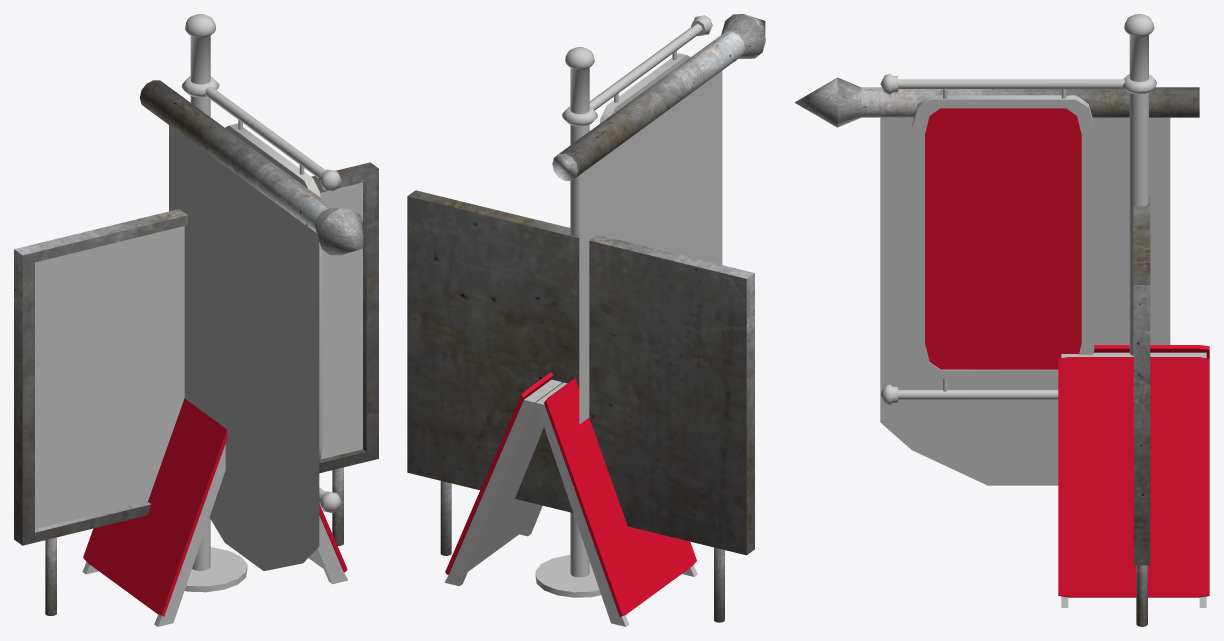
The model's file is AdSigns.fbx.
3 views of the same model, side by side, from view 1: azimuth 30°, elevation 25°; view 2: azimuth 150°, elevation 25°; view 3: azimuth 270°, elevation 25° (orthographic). The views are drawn at different scales.
Parts seen in each view (by area): view 1: Simple_AdSign, BannerPlane, FloorAd, StandingAd, BannerSupport; view 2: Simple_AdSign, FloorAd, BannerPlane, StandingAd, BannerSupport; view 3: StandingAd, BannerPlane, FloorAd, BannerSupport, Simple_AdSign.
Part boxes in pixels (left/top/right/bottom): Simple_AdSign: left=14, top=162, right=378, bottom=615; BannerPlane: left=169, top=125, right=319, bottom=570; FloorAd: left=82, top=398, right=347, bottom=626; StandingAd: left=181, top=14, right=341, bottom=592; BannerSupport: left=139, top=80, right=363, bottom=255; Simple_AdSign: left=407, top=190, right=754, bottom=622; FloorAd: left=444, top=372, right=697, bottom=626; BannerPlane: left=579, top=71, right=722, bottom=424; StandingAd: left=535, top=15, right=712, bottom=597; BannerSupport: left=552, top=14, right=765, bottom=180; StandingAd: left=880, top=14, right=1156, bottom=404; BannerPlane: left=880, top=117, right=1170, bottom=485; FloorAd: left=1058, top=345, right=1209, bottom=607; BannerSupport: left=794, top=77, right=1199, bottom=127; Simple_AdSign: left=1133, top=195, right=1150, bottom=626.
Bounding box in the file's own units: 681 × 1030 × 713.
